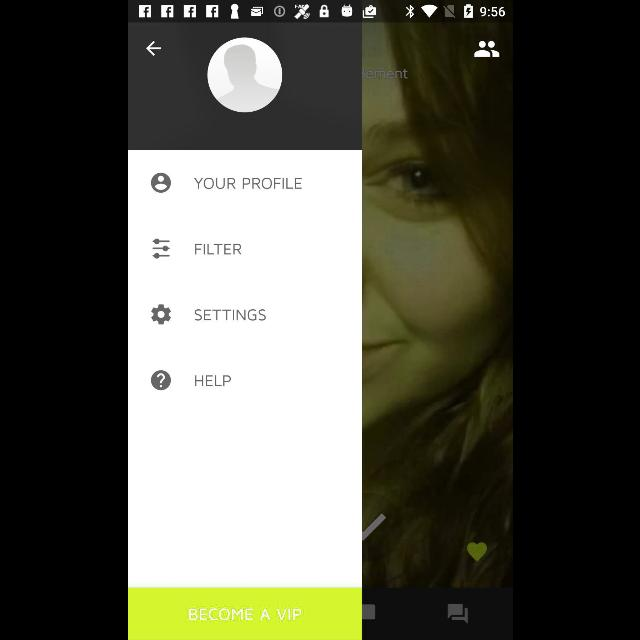icon: (206, 38, 282, 112), (150, 173, 170, 193), (150, 370, 170, 390), (150, 305, 170, 325), (151, 239, 169, 259), (145, 42, 161, 56)
panel: (127, 22, 361, 640)
text: (193, 178, 301, 190), (193, 308, 265, 322), (193, 243, 240, 255), (193, 375, 230, 387)
textbutton: (127, 588, 361, 640)
uppertaskbar: (128, 1, 512, 23)
